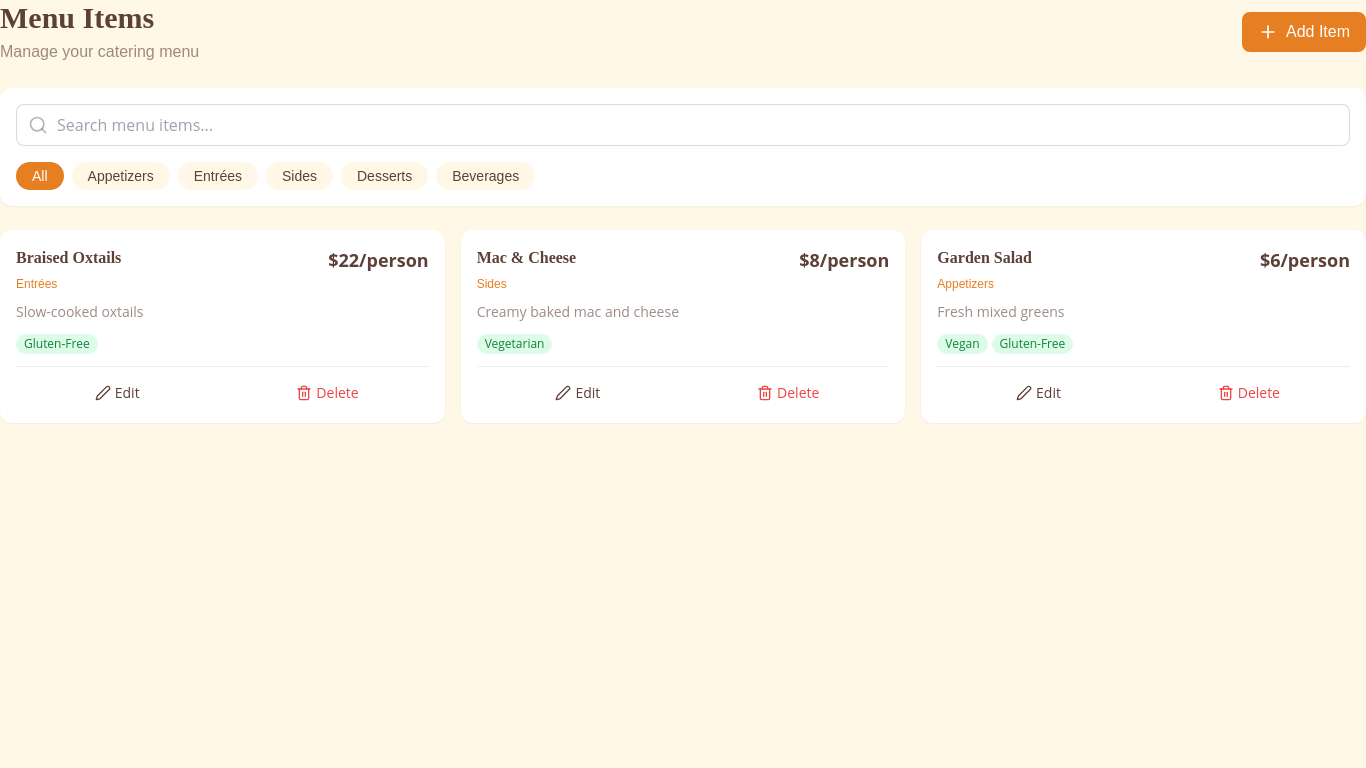
Test: Admin Menu Management Page › opens edit item modal with pre-filled data
The image size is (1366, 768).
Expected: the heading "Braised Oxtails" is shown, [16, 246, 121, 270]
Note: Click first Edit button
Click the button "Edit" below "Slow-cooked oxtails" at (117, 393), box [16, 379, 218, 407]
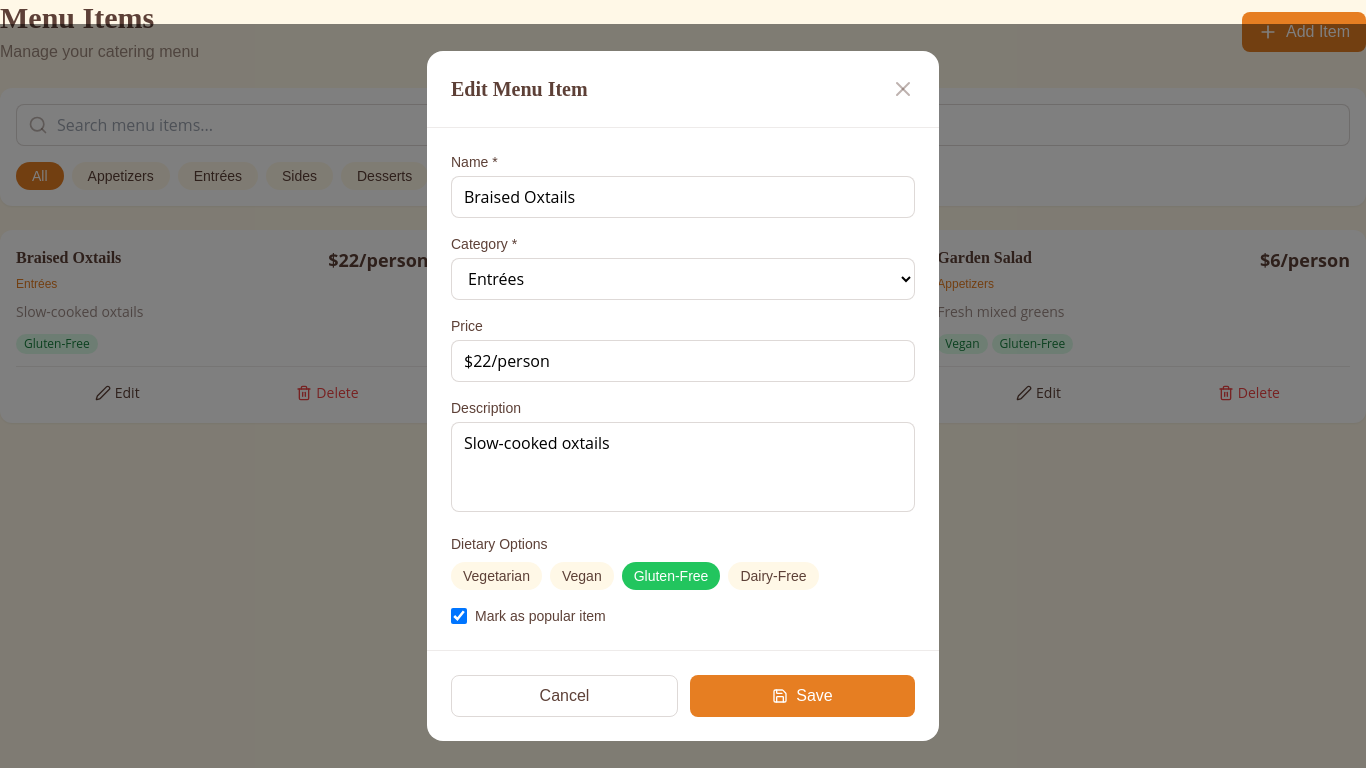
Now the heading "Edit Menu Item" is shown, box [451, 75, 588, 103]
Now the field showing "Braised Oxtails" below "Name *" is shown, box [451, 176, 915, 218]
